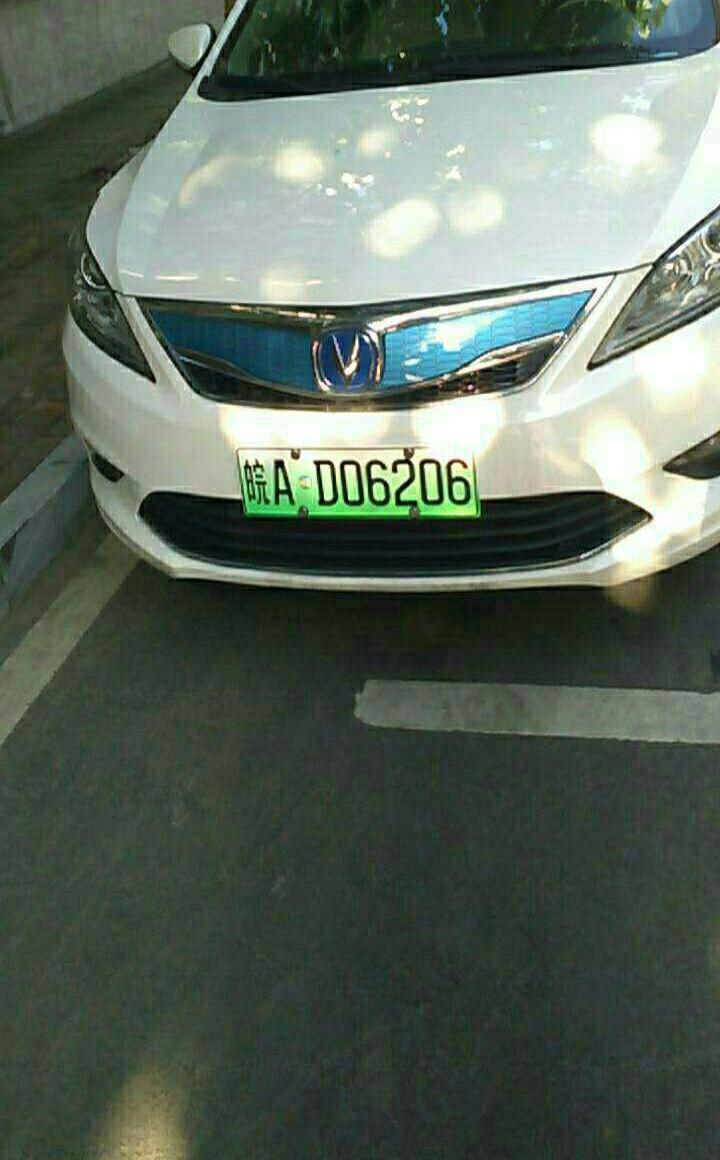car_id: (235, 444, 483, 516)
